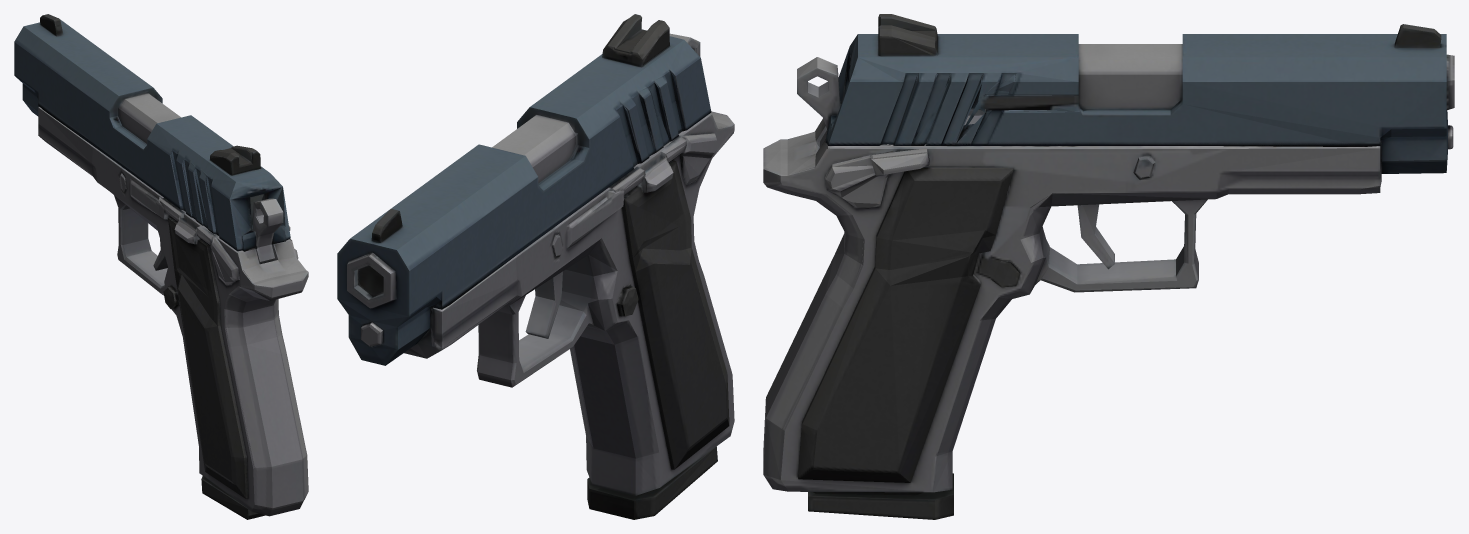
3 views of the same model, side by side, from view 1: azimuth 30°, elevation 25°; view 2: azimuth 150°, elevation 25°; view 3: azimuth 270°, elevation 25° (orthographic). The views are drawn at different scales.
Parts seen in each view (by area): view 1: tripo_node_cebb2b8b-c543-46fc-96e7-2958fb8be7d6; view 2: tripo_node_cebb2b8b-c543-46fc-96e7-2958fb8be7d6; view 3: tripo_node_cebb2b8b-c543-46fc-96e7-2958fb8be7d6.
Boxes of the visible parts, bbox=[...] form: tripo_node_cebb2b8b-c543-46fc-96e7-2958fb8be7d6: bbox=[14, 14, 308, 519]; tripo_node_cebb2b8b-c543-46fc-96e7-2958fb8be7d6: bbox=[337, 14, 734, 519]; tripo_node_cebb2b8b-c543-46fc-96e7-2958fb8be7d6: bbox=[763, 14, 1454, 519].
Size of the model in its own units: 0.1934 by 0.7676 by 0.998.
1 material, 1 textured.
